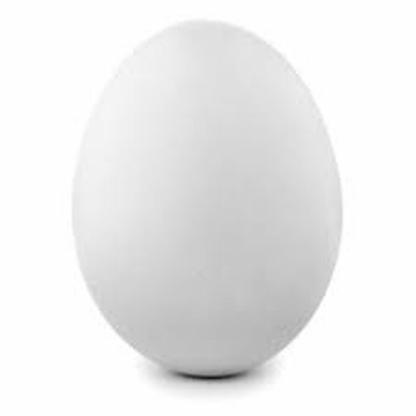egg: (70, 14, 348, 382)
